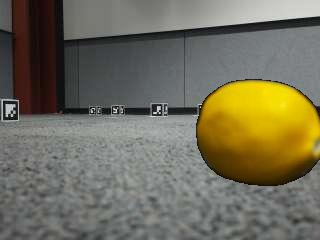lemon: (198, 81, 320, 188)
